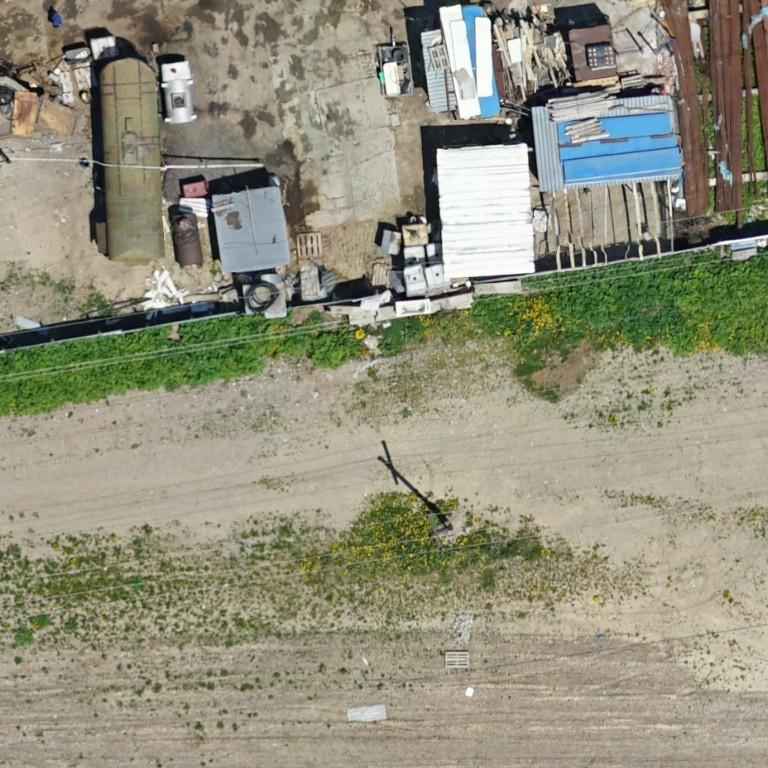hogweed: (0, 329, 359, 416), (546, 255, 767, 347), (0, 314, 282, 376)
